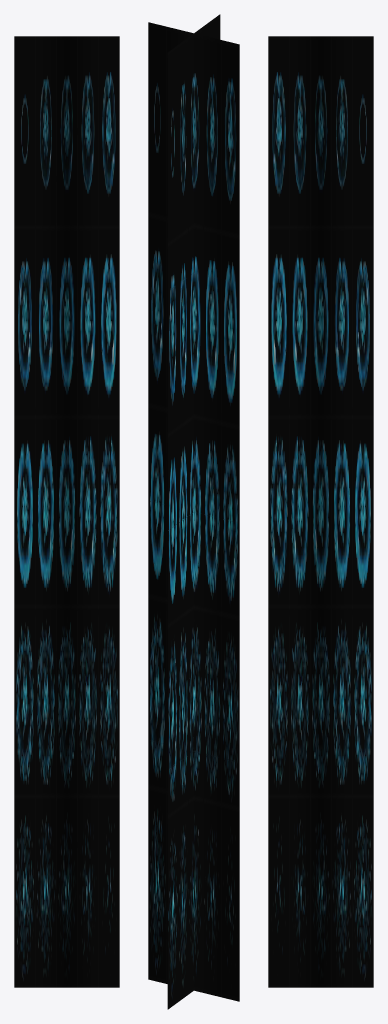
The model's file is 0340_jianguang_M_02.glb.
The picture shows the model from 3 angles, left to right: view 1: azimuth 90°, elevation 25°; view 2: azimuth 150°, elevation 25°; view 3: azimuth 270°, elevation 25°; orthographic projection.
Bounding box in the file's own units: 0.22 × 2.2 × 0.22.
Materials: 1 (1 with a texture image).
